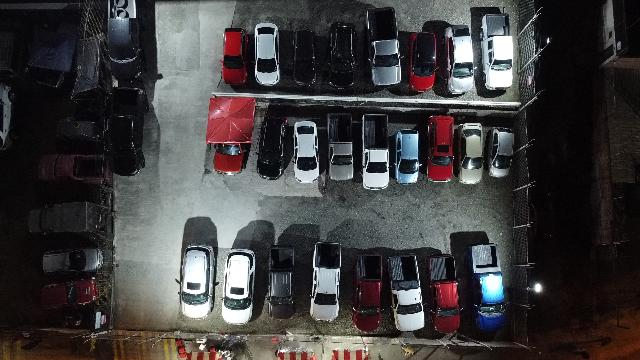Vehiculo: (205, 97, 255, 175), (108, 84, 148, 176), (468, 244, 508, 332), (365, 7, 403, 87), (176, 244, 214, 320), (426, 254, 462, 334), (388, 254, 424, 332), (220, 249, 256, 325), (108, 0, 141, 80), (479, 13, 513, 90), (309, 242, 341, 322), (352, 252, 382, 334), (29, 201, 99, 234), (361, 114, 389, 190), (444, 24, 474, 94), (266, 246, 294, 320), (256, 116, 288, 180), (326, 22, 356, 88), (326, 113, 354, 181), (426, 115, 454, 182), (456, 122, 484, 184), (253, 22, 280, 86), (39, 155, 102, 182), (408, 32, 436, 92), (220, 27, 248, 85), (293, 121, 319, 183), (41, 280, 96, 309), (42, 248, 102, 274), (486, 126, 514, 178), (394, 130, 420, 184), (292, 30, 316, 86), (56, 118, 101, 141), (0, 84, 11, 150)
